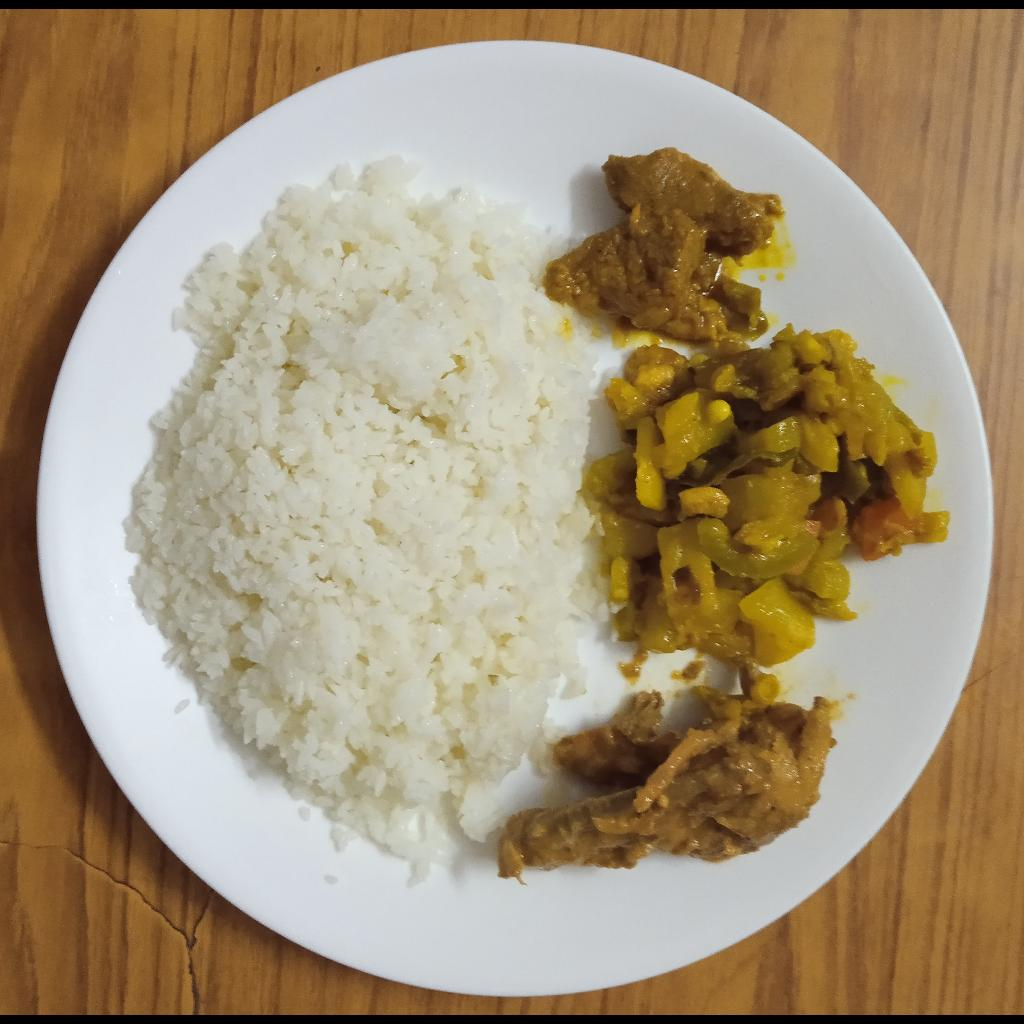beef: (548, 149, 786, 338)
chicken: (497, 682, 834, 877)
rice: (124, 159, 601, 880)
vegetable: (589, 324, 951, 669)
